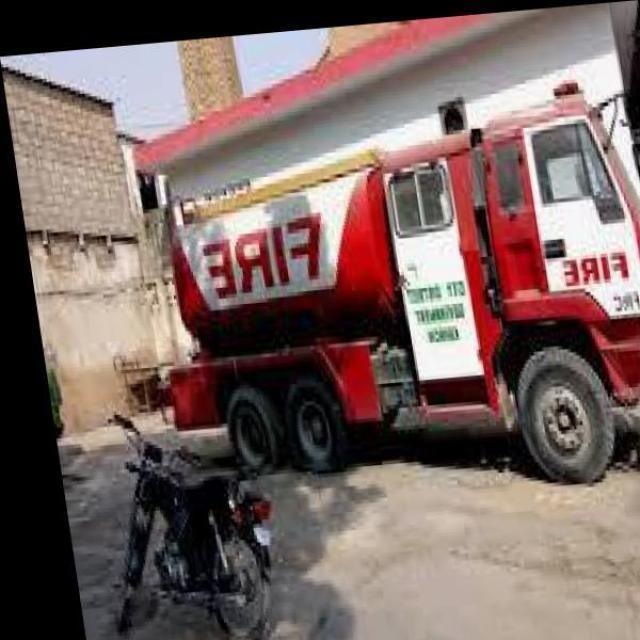emergency: (154, 78, 638, 484)
